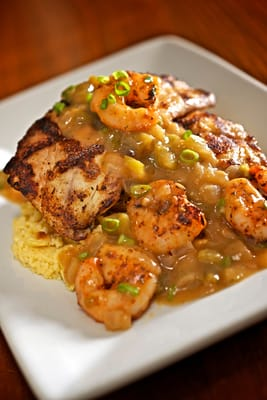sandwich: (2, 68, 267, 389)
